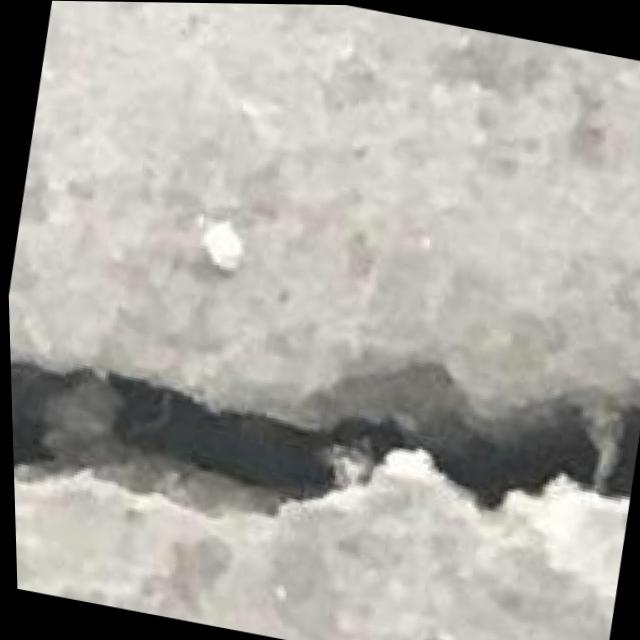Crack: (6, 252, 640, 617)
